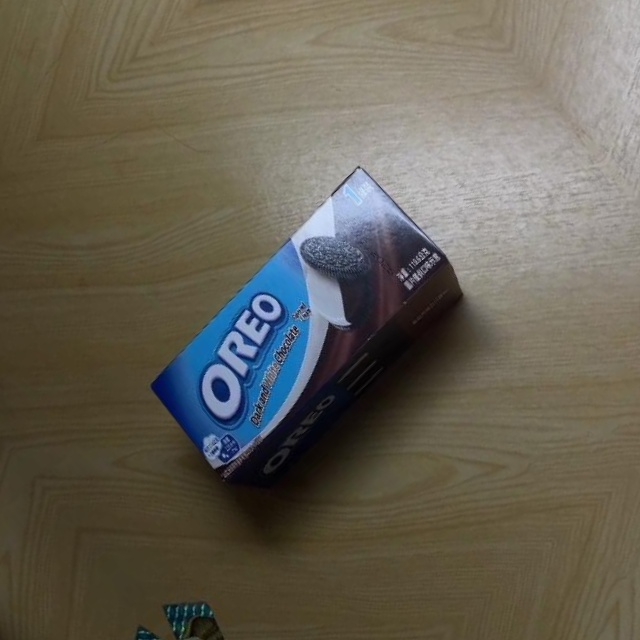Oreo: (126, 159, 490, 506)
